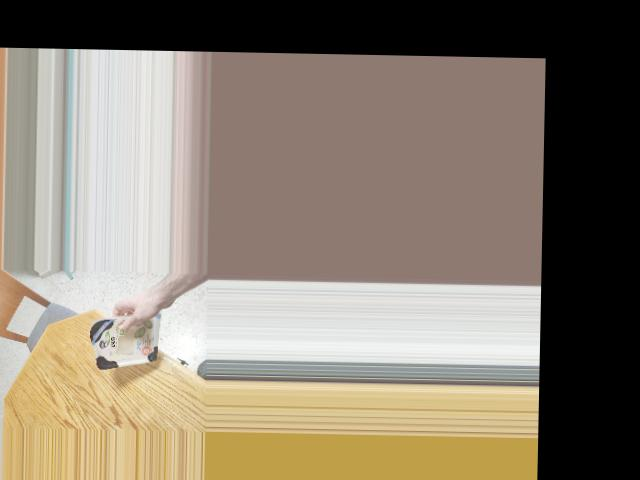cheese: (86, 313, 176, 368)
